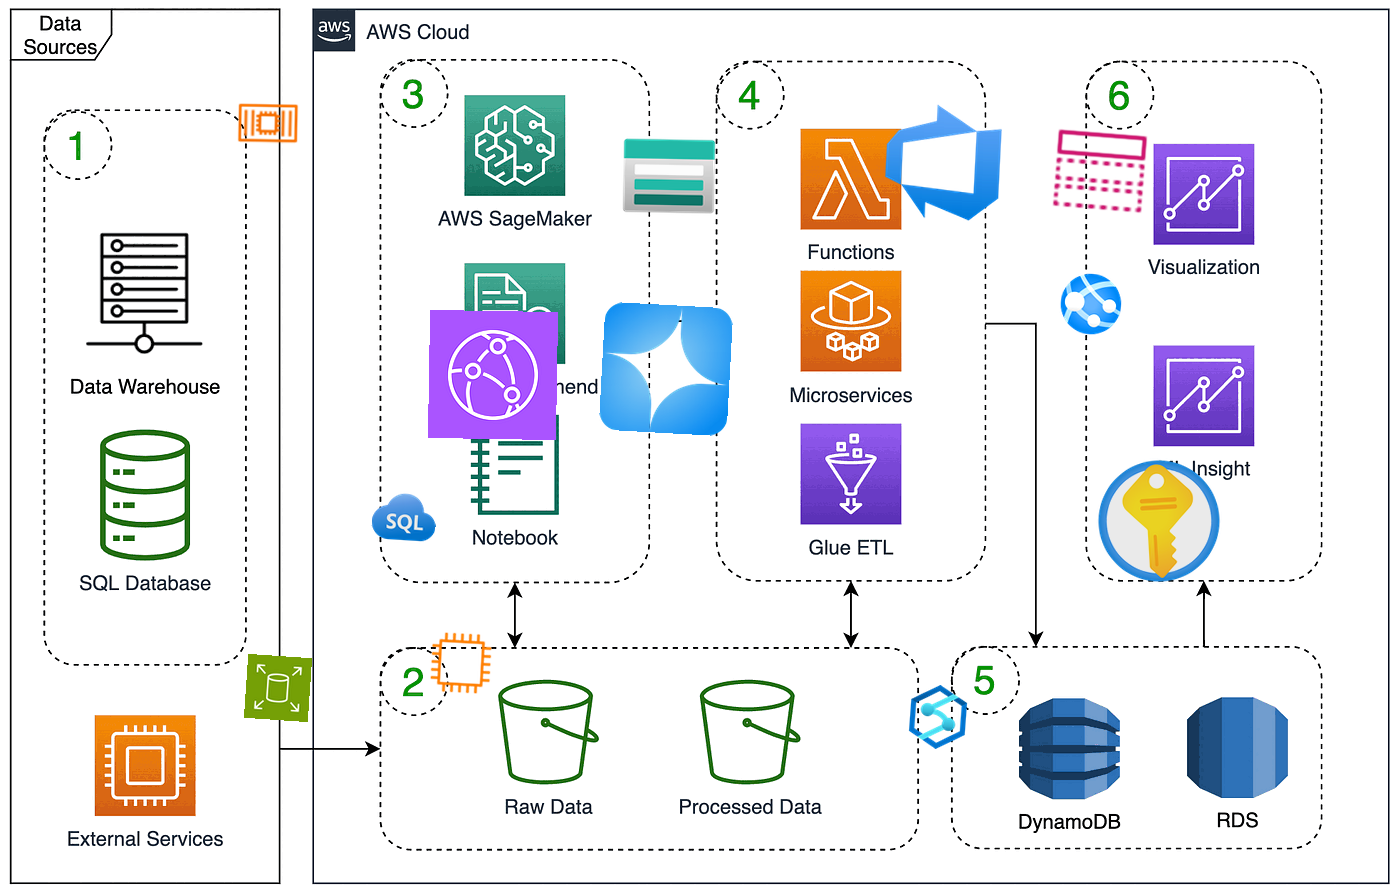aws_amazon_cloudfront: (427, 309, 559, 441)
aws_amazon_elastic_block_store: (243, 653, 313, 723)
aws_ec2_instance: (427, 629, 495, 697)
aws_elastic_container_service_container_2: (235, 90, 301, 156)
aws_simple_notification_service_topic: (1048, 119, 1152, 224)
azure_app_services: (1056, 269, 1126, 339)
azure_devops: (876, 94, 1011, 230)
azure_key_vaults: (1091, 453, 1227, 589)
azure_openai: (598, 301, 734, 437)
azure_sql: (370, 484, 438, 552)
azure_storage_accounts: (620, 127, 718, 225)
azure_synapse_analytics: (903, 682, 973, 752)
